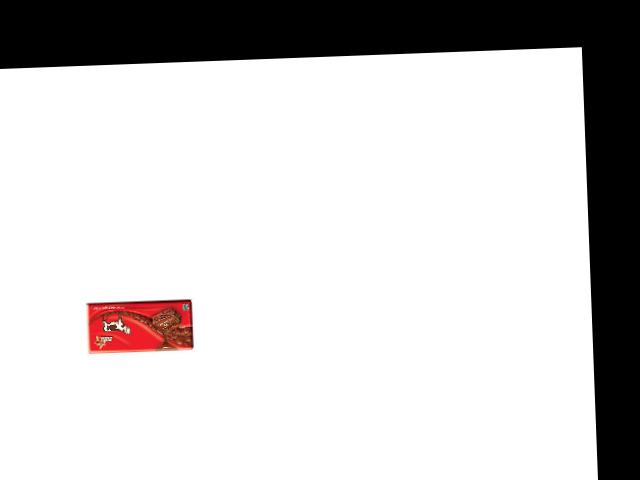chocolate: (82, 293, 196, 355)
